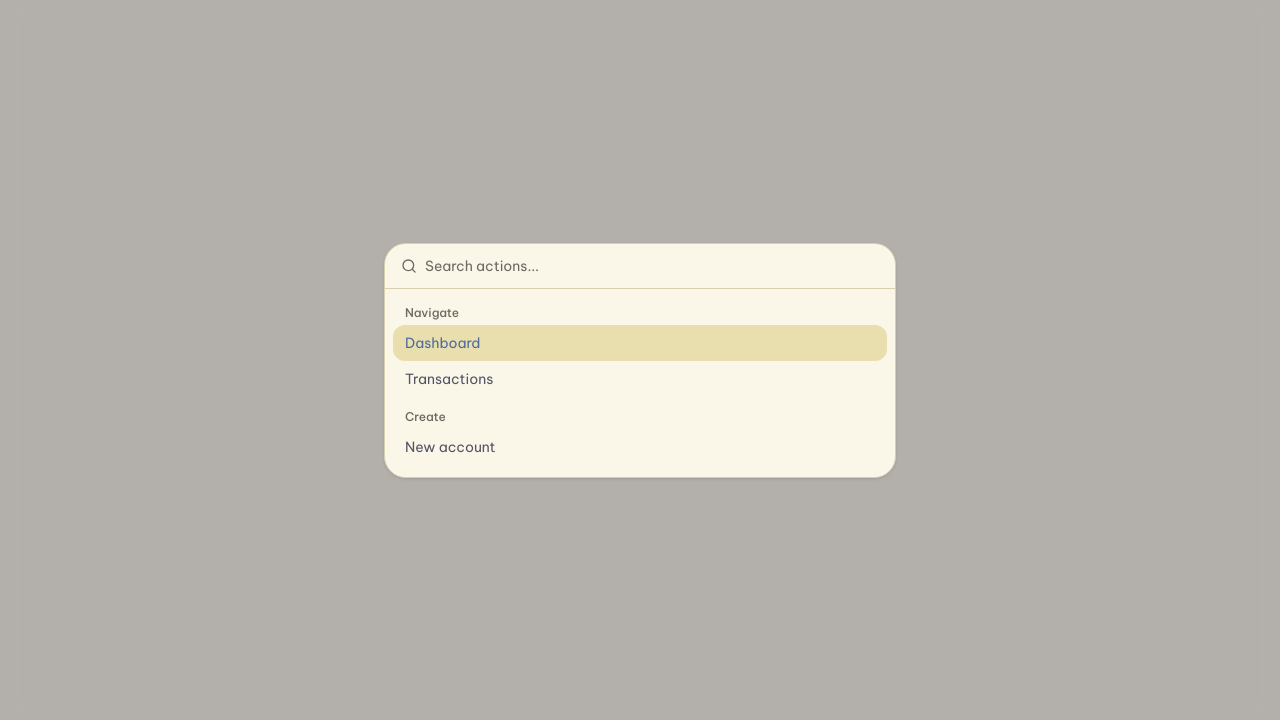
Test: CommandPalette › filters actions by label as the user types
Check: the button "Dashboard" is shown, box [393,324,887,360]
Check: the button "New account" is shown, box [393,428,887,464]
In the field with placeholder "Search actions...": [652, 266] box [425,256,879,276], type "account"
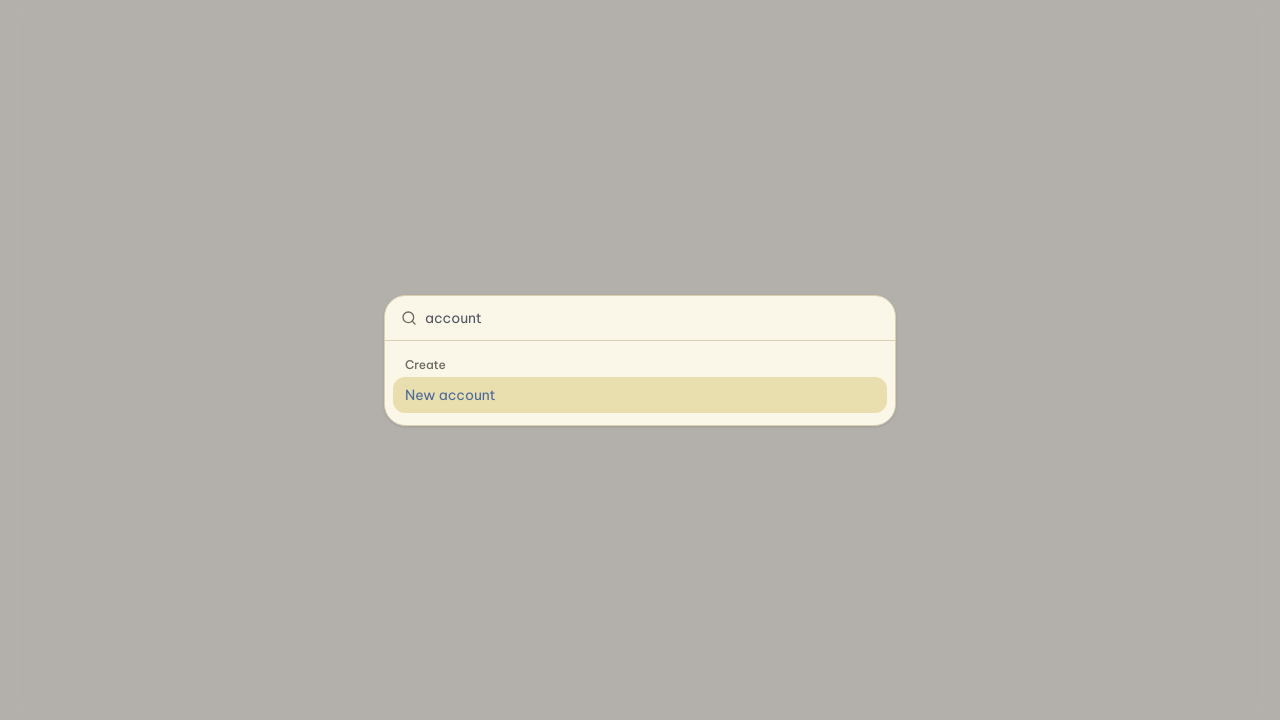
Check: the button "New account" is shown, box [393,376,887,412]
Check: the button "Dashboard" is gone
